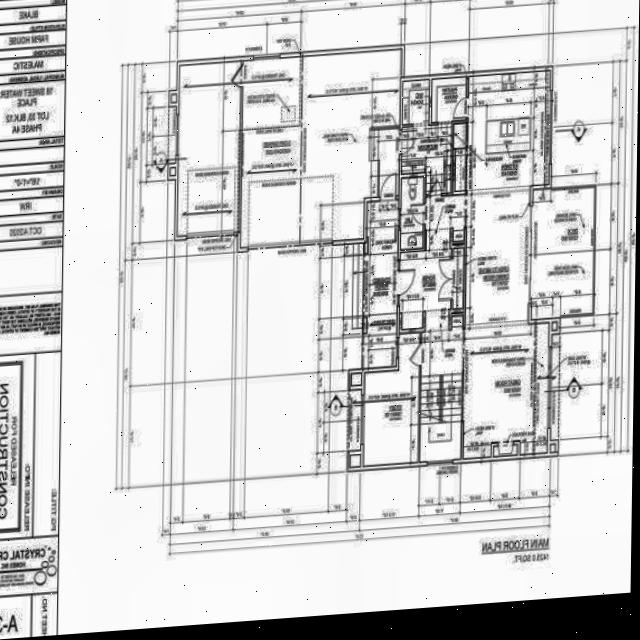room: (178, 61, 241, 237), (363, 332, 420, 467), (402, 123, 452, 195), (401, 177, 424, 250), (431, 77, 466, 123), (403, 80, 429, 125)
